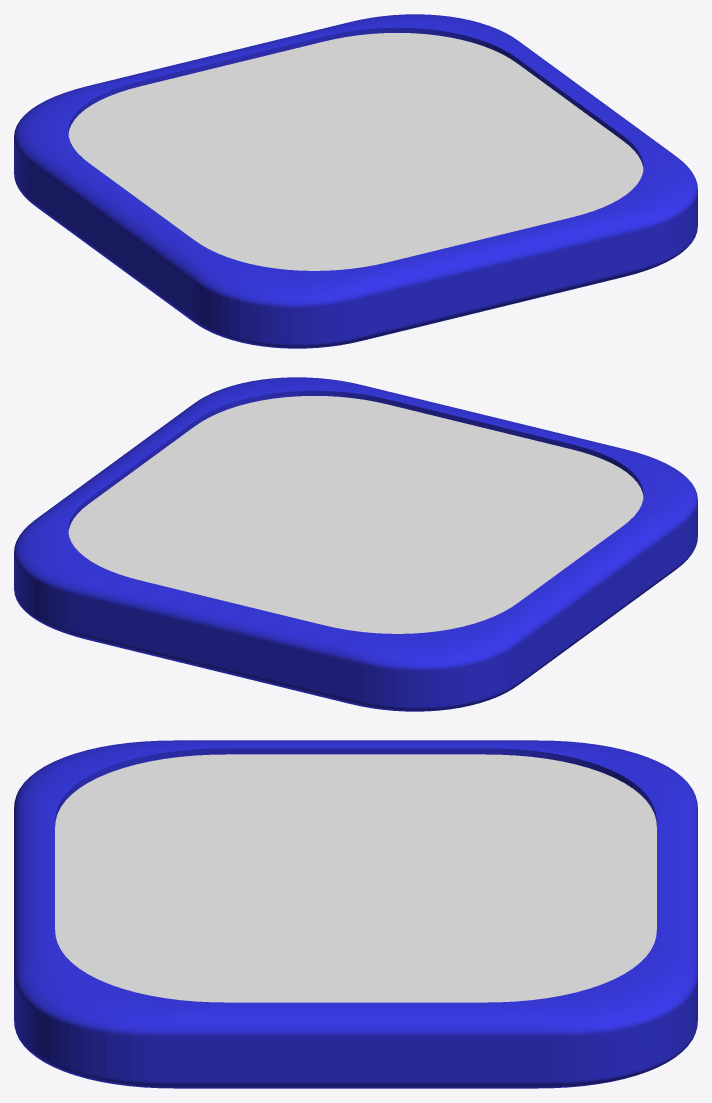
Rendered from platform.fbx.
3 views of the same model, one above another, from view 1: azimuth 30°, elevation 25°; view 2: azimuth 150°, elevation 25°; view 3: azimuth 270°, elevation 25° (orthographic). The views are drawn at different scales.
Parts seen in each view (by area): view 1: Cube; view 2: Cube; view 3: Cube.
Boxes of the visible parts, left/top/right/bottom form: Cube: left=14, top=14, right=697, bottom=348; Cube: left=14, top=377, right=697, bottom=711; Cube: left=14, top=740, right=697, bottom=1088.
Bounding box in the file's own units: 240 × 240 × 30.29.
